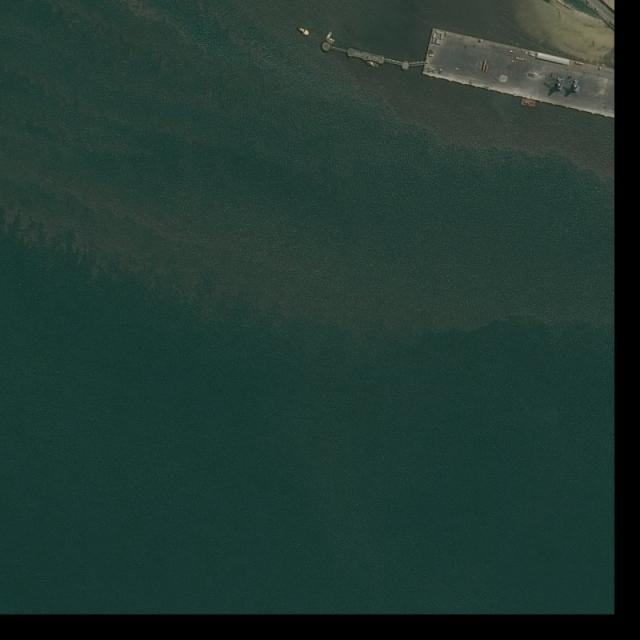ship: (522, 98, 538, 109), (365, 59, 380, 69), (297, 26, 310, 36), (326, 32, 334, 40), (326, 40, 334, 45), (330, 38, 336, 43)
